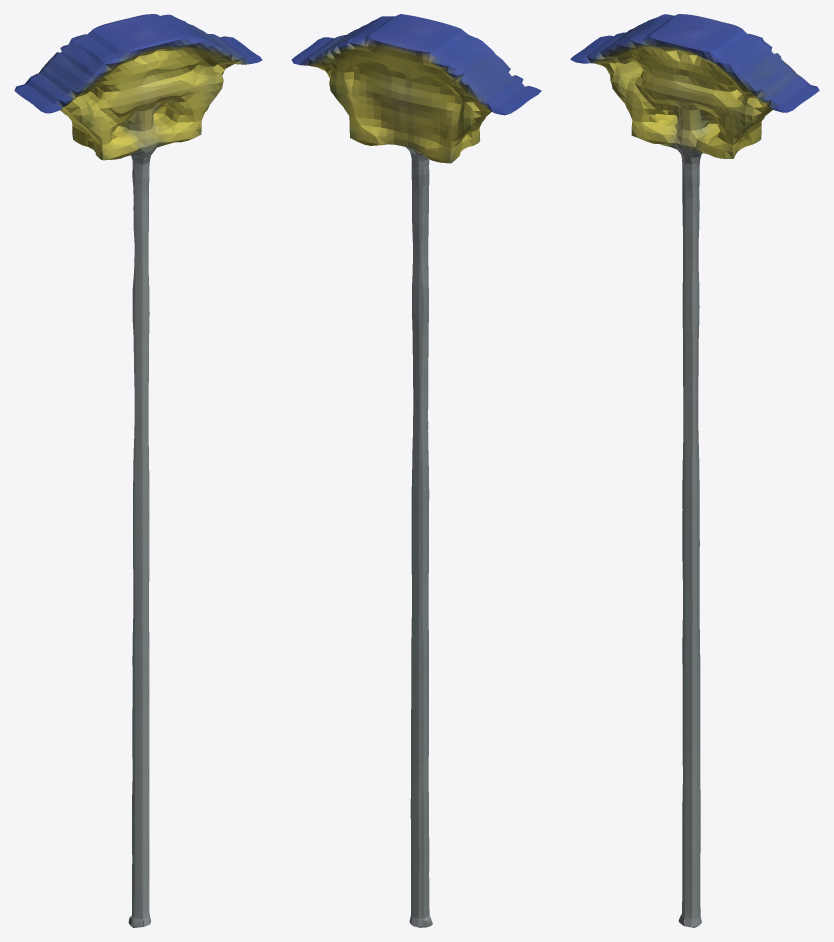
3 views of the same model, side by side, from view 1: azimuth 30°, elevation 25°; view 2: azimuth 150°, elevation 25°; view 3: azimuth 330°, elevation 25° (orthographic).
Parts seen in each view (by area): view 1: tmp4jv918mg.ply; view 2: tmp4jv918mg.ply; view 3: tmp4jv918mg.ply.
Boxes of the visible parts, x1,y1,x2,y2 form: tmp4jv918mg.ply: [14, 14, 262, 927]; tmp4jv918mg.ply: [291, 14, 541, 927]; tmp4jv918mg.ply: [570, 14, 819, 927].
Bounding box in the file's own units: 0.5114 × 1.98 × 0.148.
